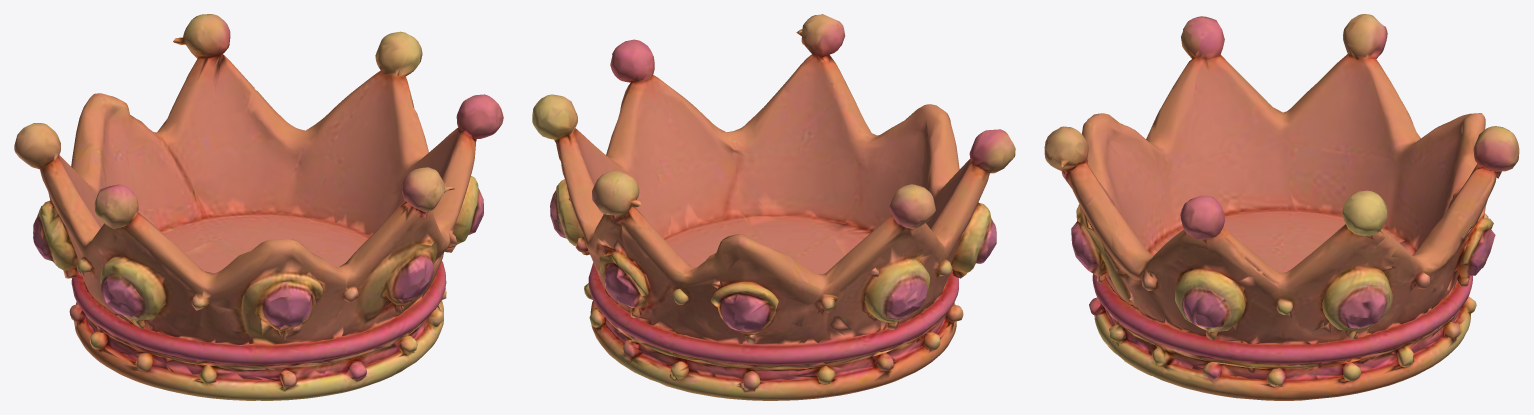
Rendered from acc_hat_party_crown_01.glb.
3 renders of one model, left to right at view 1: azimuth 30°, elevation 25°; view 2: azimuth 150°, elevation 25°; view 3: azimuth 270°, elevation 25°, orthographic. The views are drawn at different scales.
Visible parts, largest first — view 1: acc_hat_party_crown_01; view 2: acc_hat_party_crown_01; view 3: acc_hat_party_crown_01.
Part boxes in pixels (box(x1,y1,x2,y2)): acc_hat_party_crown_01: box(14, 14, 503, 400); acc_hat_party_crown_01: box(532, 14, 1015, 400); acc_hat_party_crown_01: box(1044, 14, 1519, 400).
Bounding box in the file's own units: 0.5323 × 0.28 × 0.5369.
Materials: 1 (1 with a texture image).
